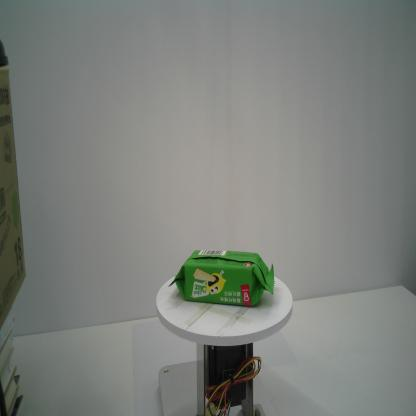Dessert: (168, 250, 275, 307)
